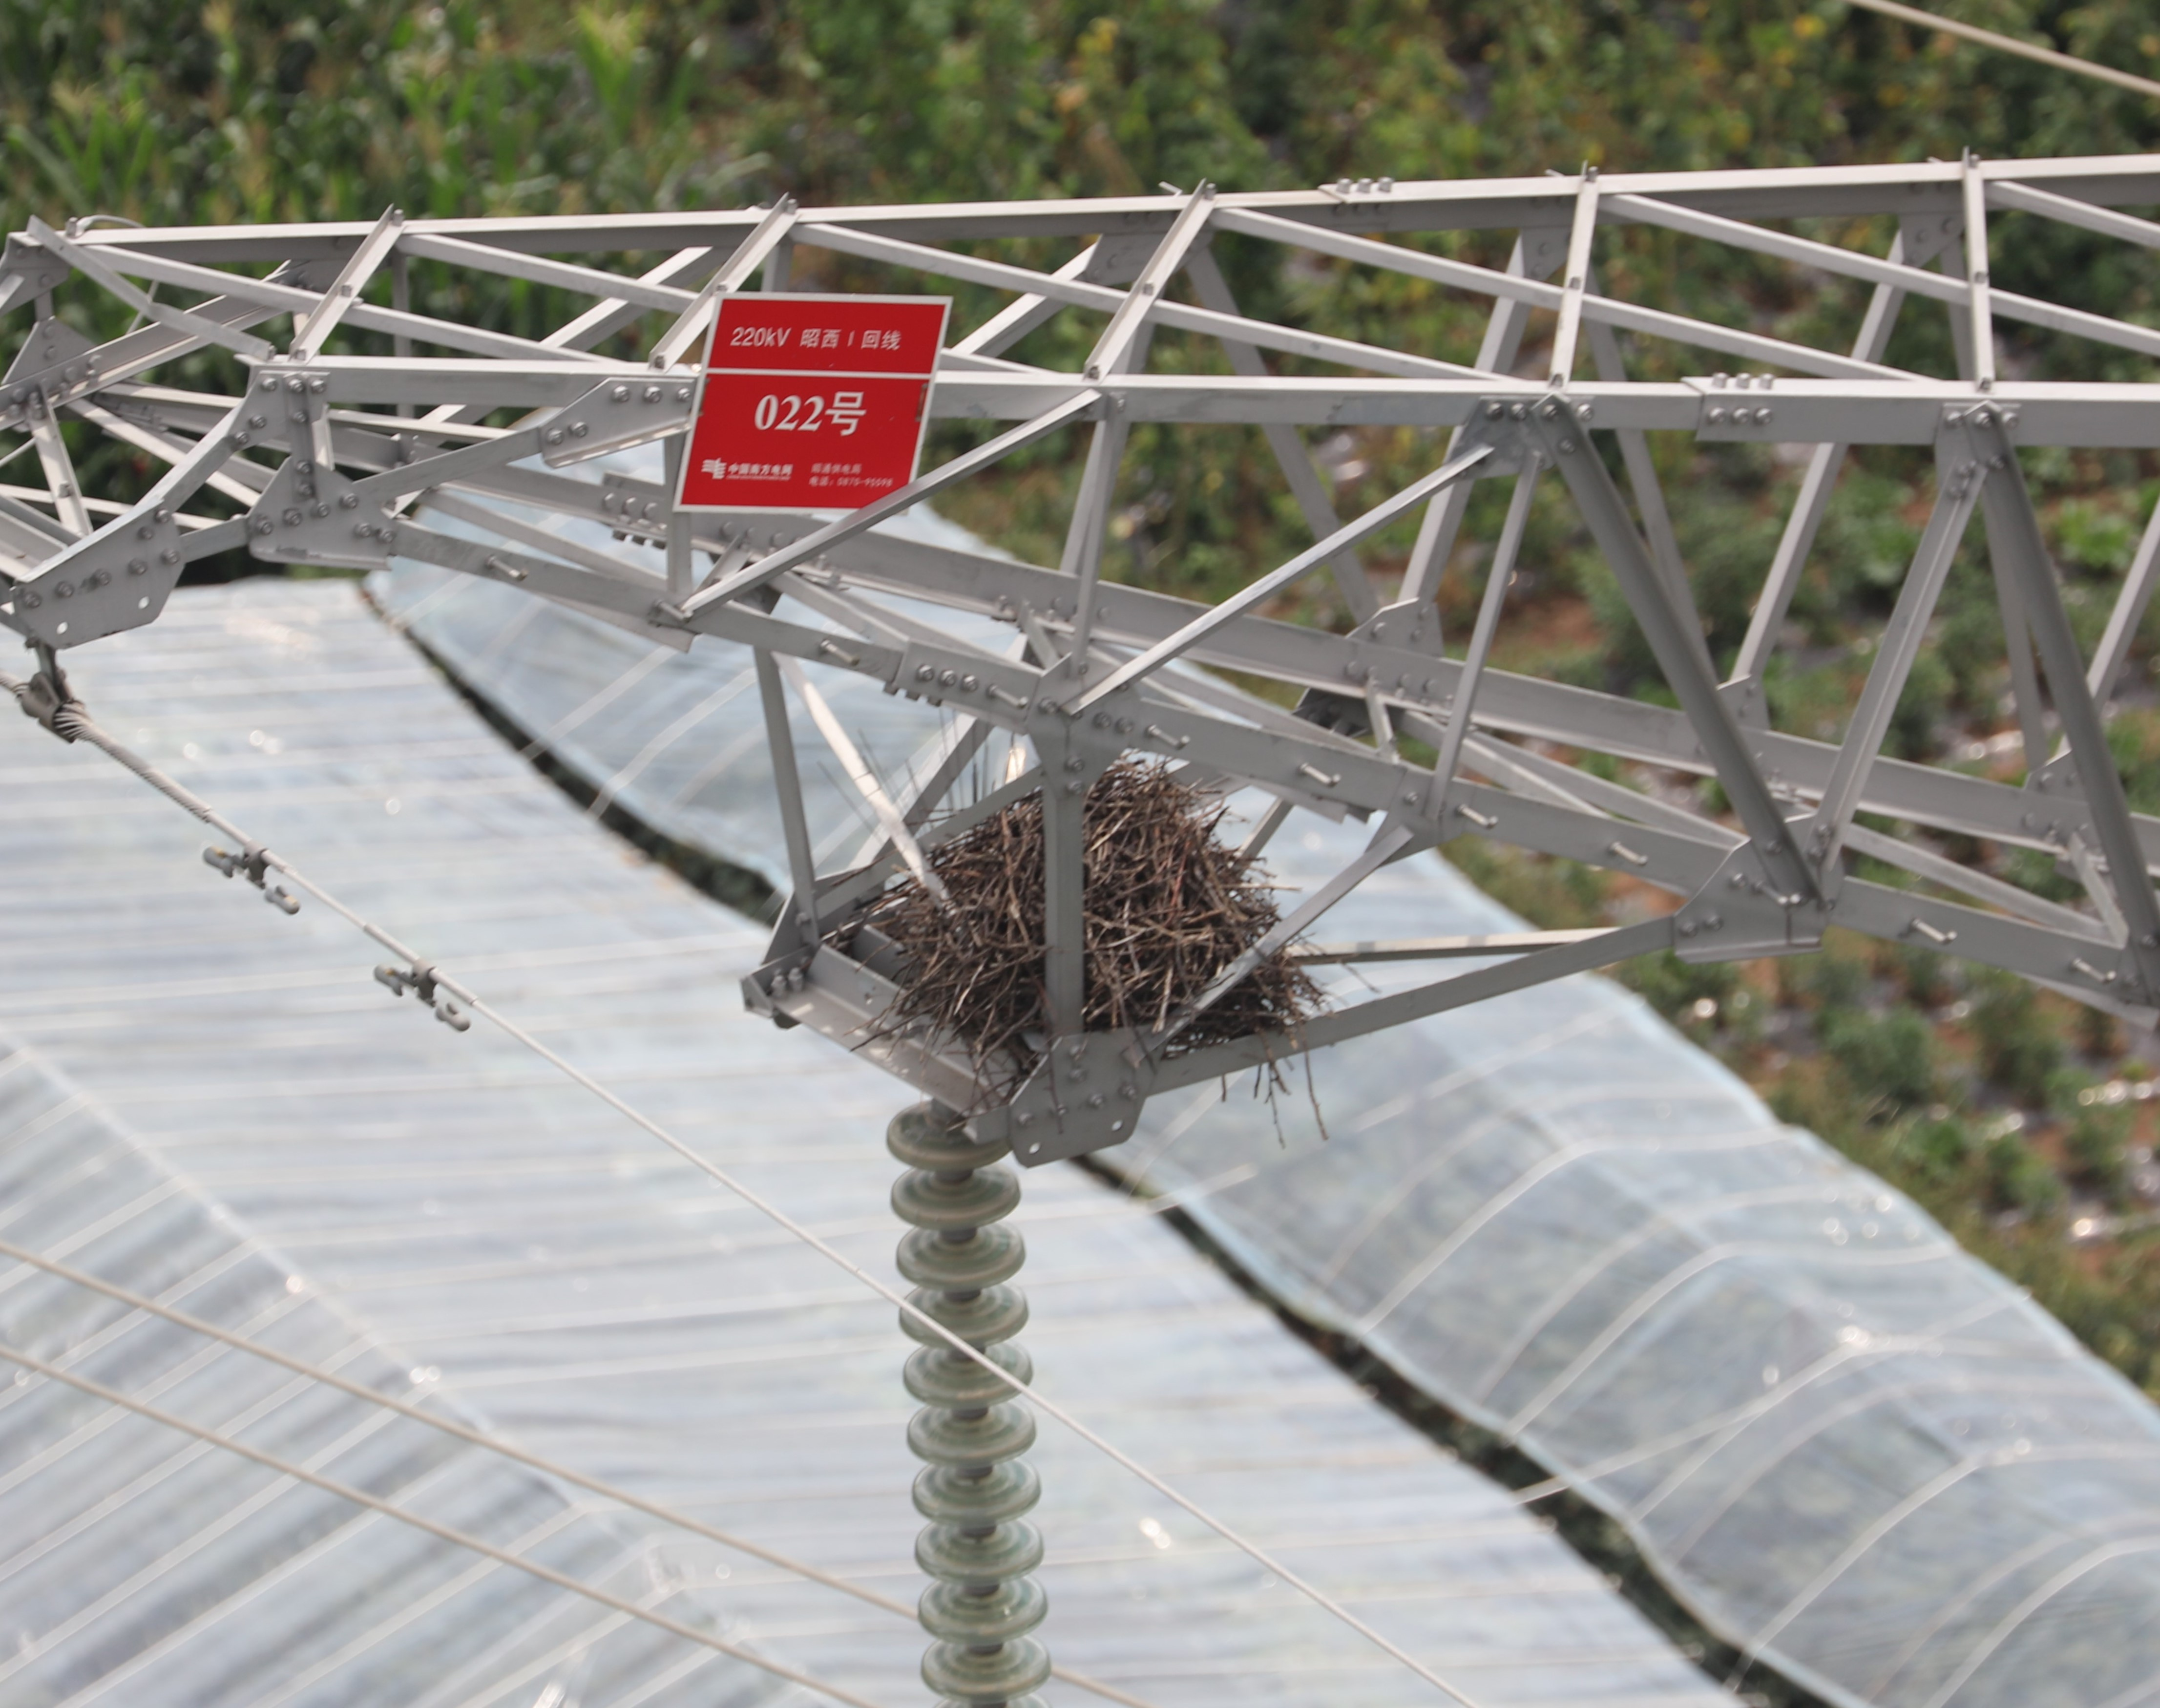niaowo: (833, 726, 1348, 1087)
